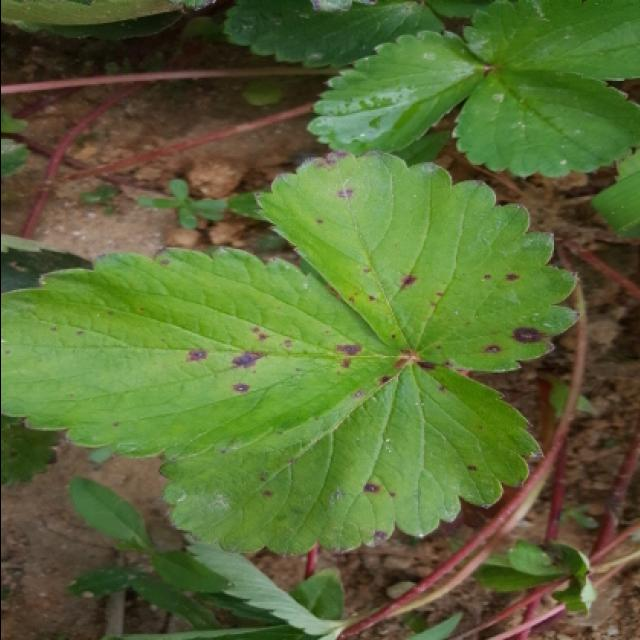Leaf Spot: (2, 244, 409, 460), (157, 360, 543, 560), (253, 148, 583, 373)
